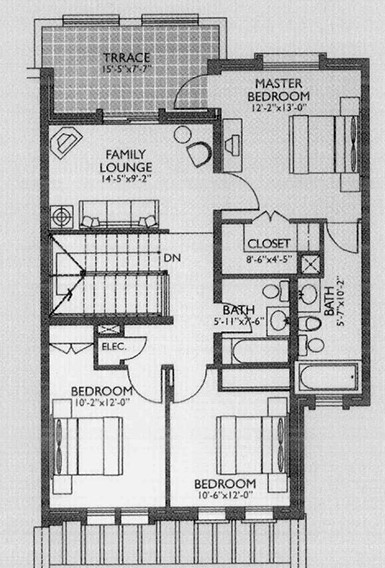room: (207, 57, 368, 232), (40, 315, 171, 521), (38, 111, 224, 233), (165, 362, 303, 518), (40, 226, 227, 325), (289, 271, 369, 404), (213, 273, 296, 342)
